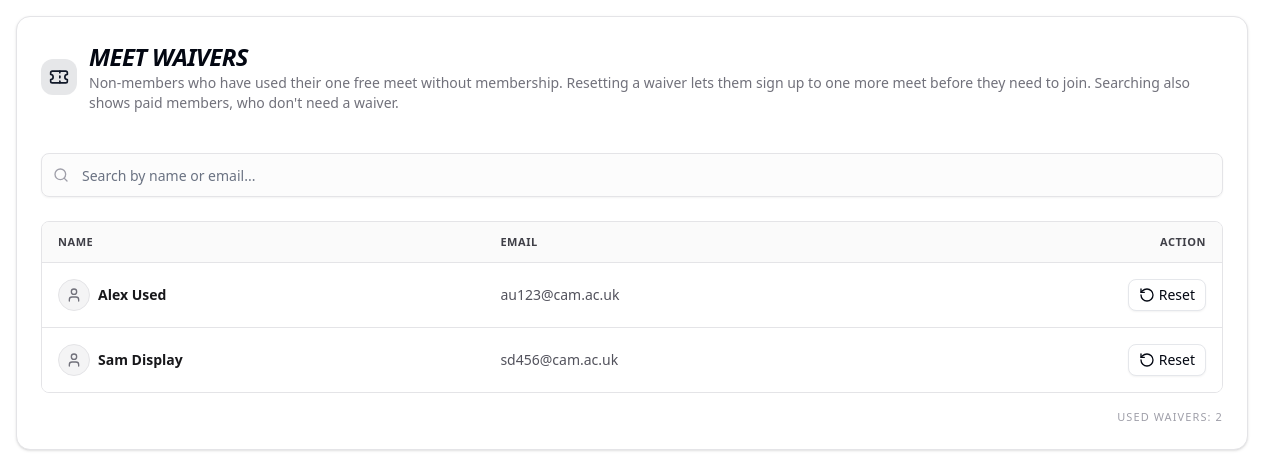
Test: Waivers — resetting › resets a waiver and removes the user from the list
Step 1. Click the button "Reset" in the row of "Alex Used" → point(1167, 295), box [1128, 279, 1206, 311]
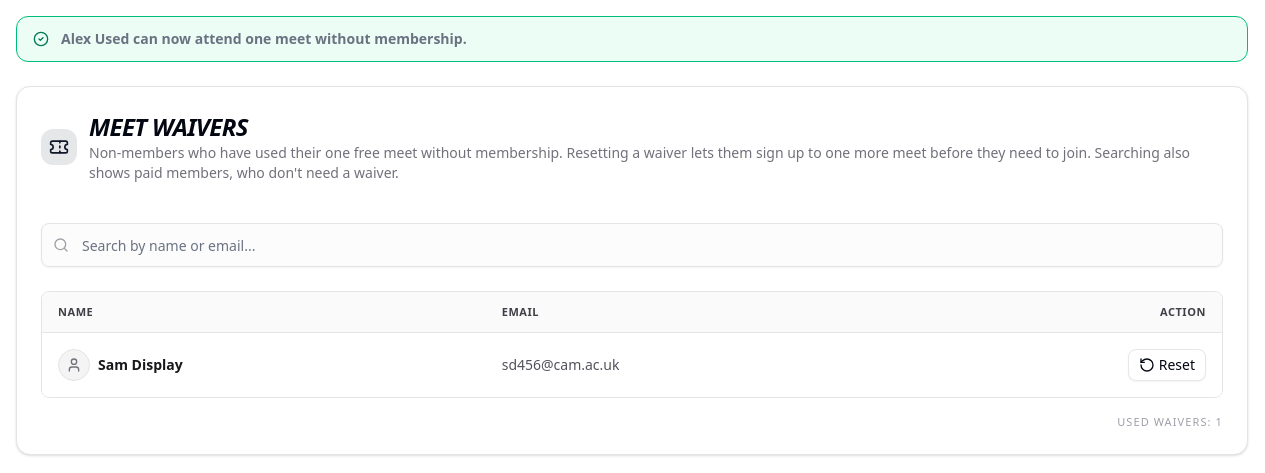
Now the text "Alex Used can now attend one meet without membership." is shown, box [61, 29, 467, 48]
Now the text "Used Waivers: 1" is shown, box [1117, 414, 1223, 429]
